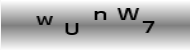7: (141, 20, 156, 35)
U: (63, 22, 80, 36)
W: (117, 8, 139, 21)
n: (93, 10, 108, 22)
w: (35, 15, 54, 26)
